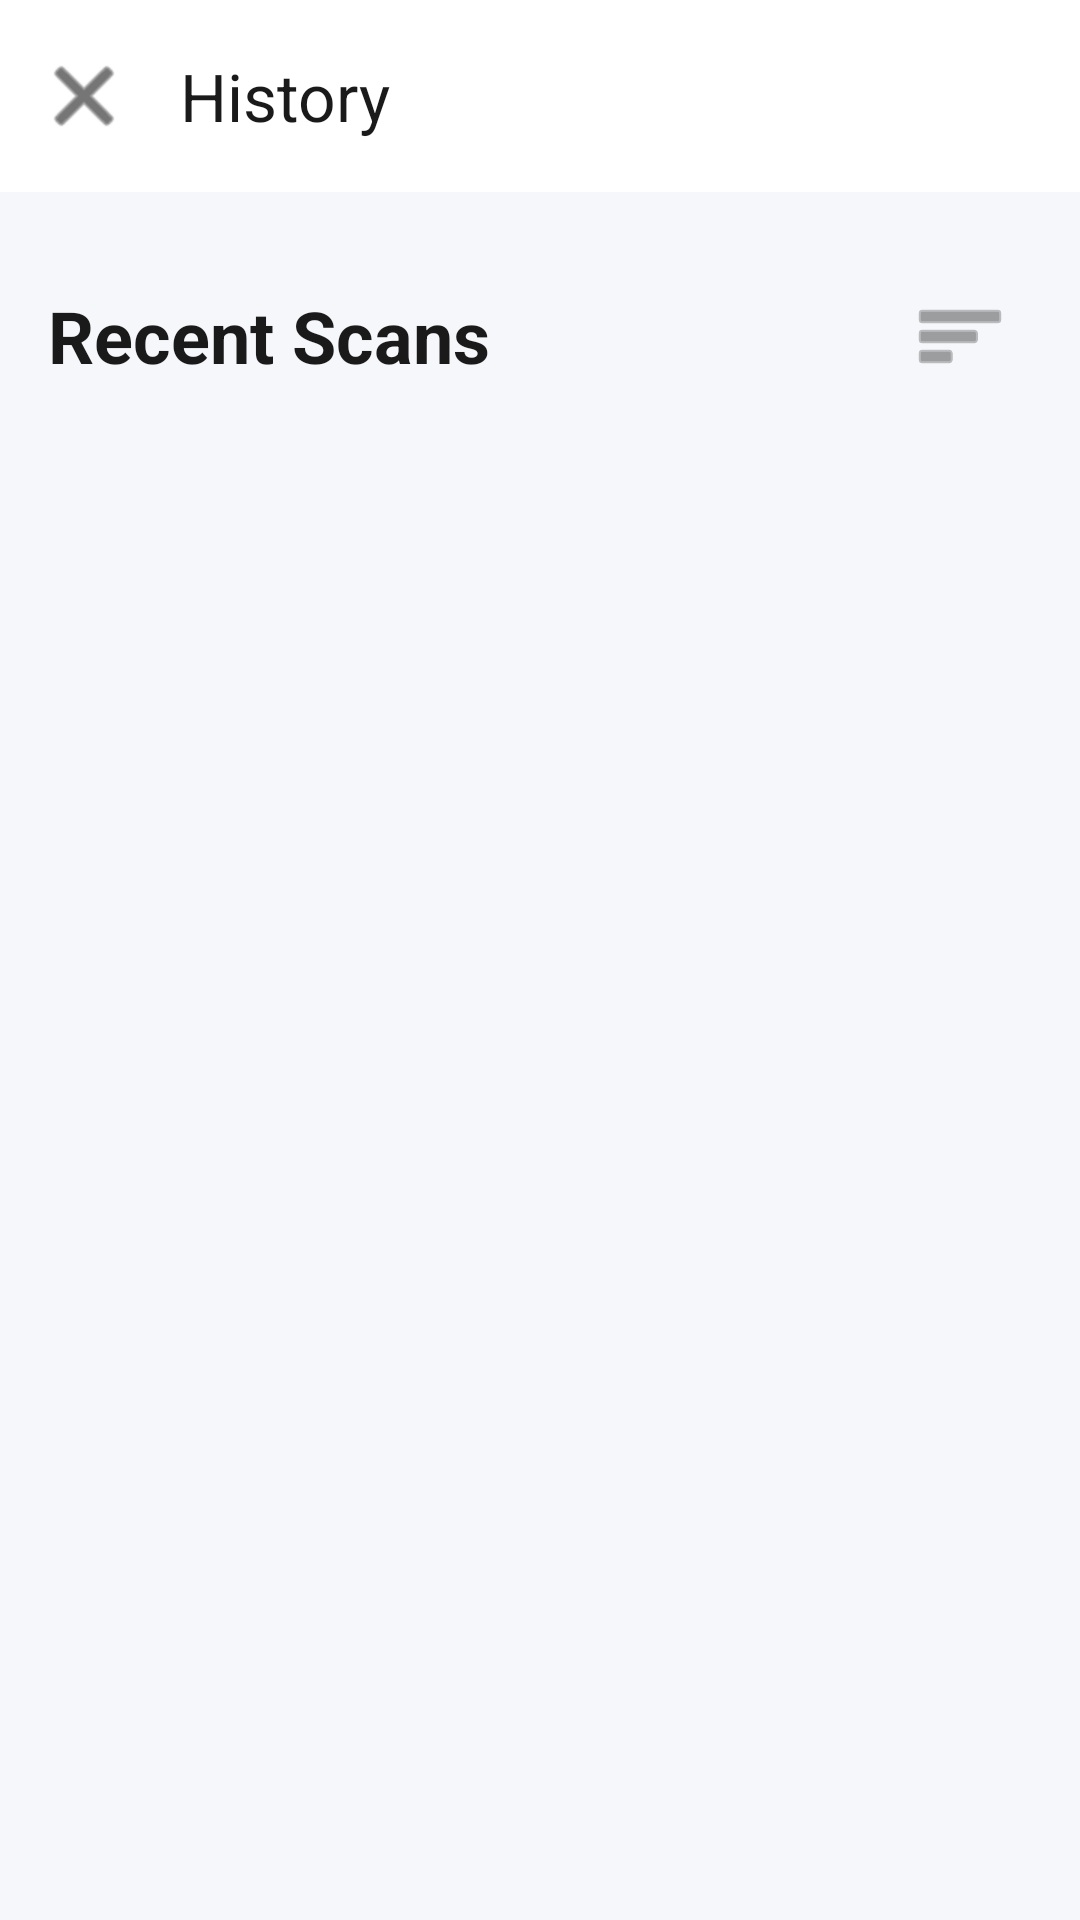

Icons on this 1080 x 1920 Android screen, each with its box as (x1, y1, x2, y2):
Filter documents: (919, 310, 1001, 363)
